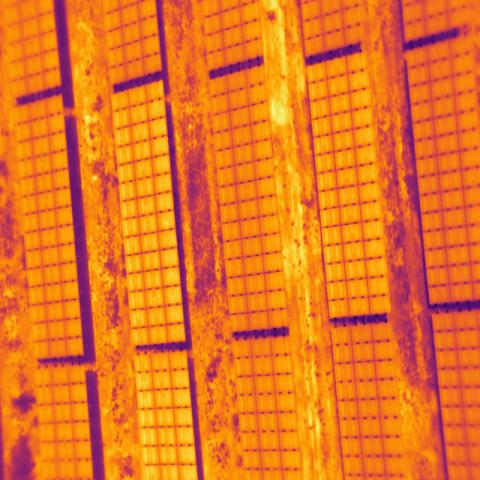fault: (155, 209, 176, 232)
